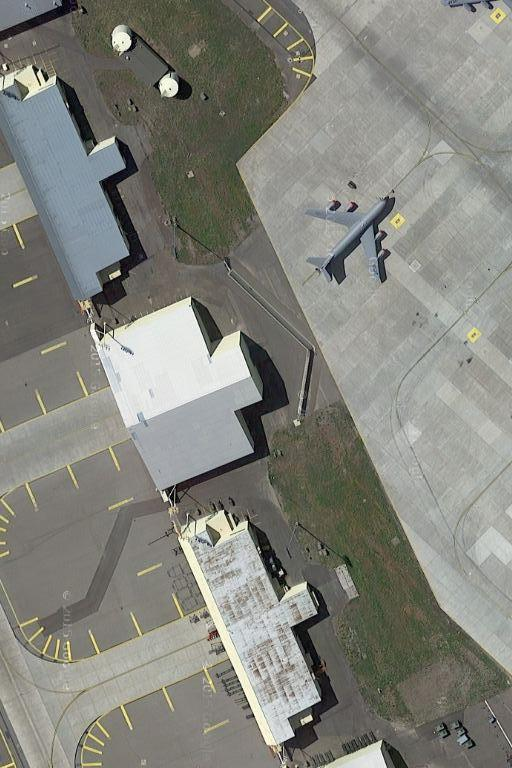KC-135: (301, 191, 397, 287)
